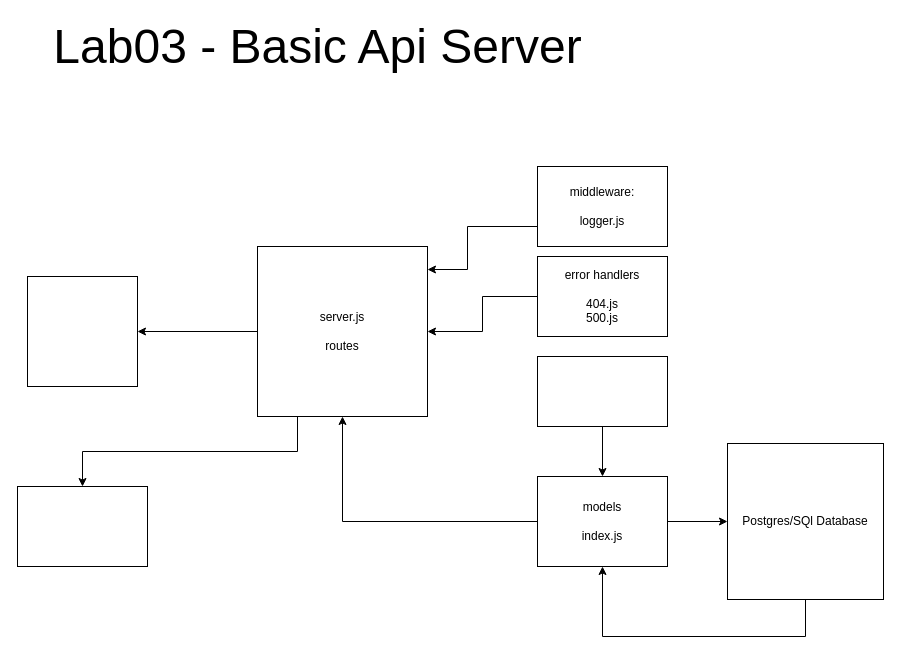
This 901x662 diagram has some shape labels left out. Here are the shapes that lost their labels. From the top down, the centre of each, then its label:
point 82,331: index.js
point 602,391: routers fruits.js cars.js
point 82,526: __tests__ server.test.js
